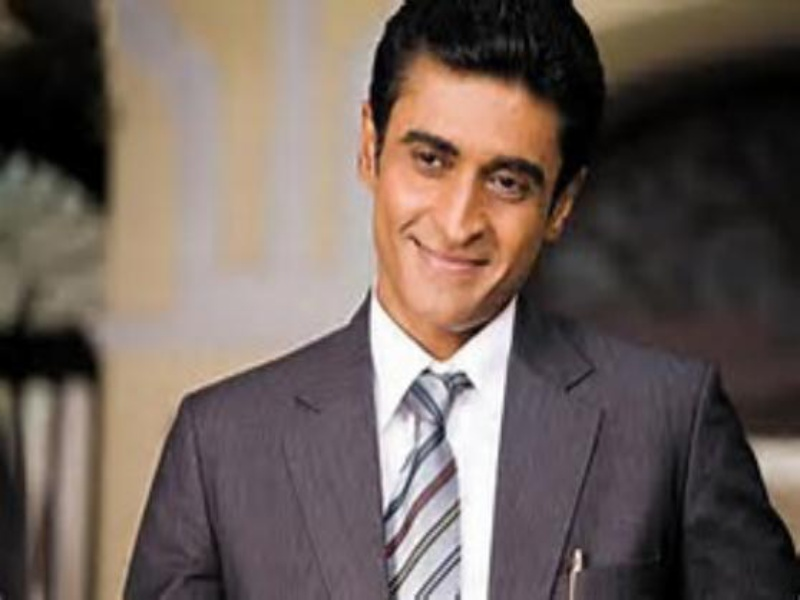TsisyArotava: (338, 15, 599, 343)
